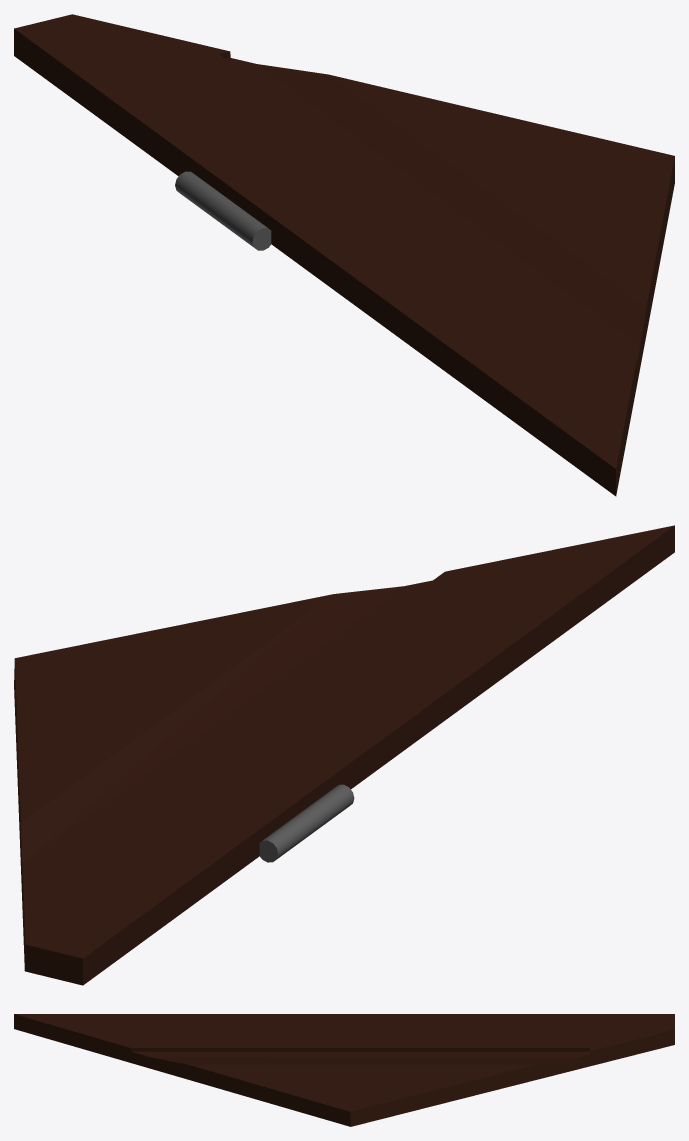
Rendered from Placard_Part_13.fbx.
3 renders of one model, top to bottom at view 1: azimuth 30°, elevation 25°; view 2: azimuth 150°, elevation 25°; view 3: azimuth 270°, elevation 25°, orthographic. The views are drawn at different scales.
Parts seen in each view (by area): view 1: Placard_Part_13; view 2: Placard_Part_13; view 3: Placard_Part_13.
Boxes of the visible parts, <box> form: Placard_Part_13: <box>14,14,674,496</box>; Placard_Part_13: <box>14,525,674,985</box>; Placard_Part_13: <box>14,1014,674,1126</box>.
Size of the model in its own units: 40.08 by 3.17 by 109.
